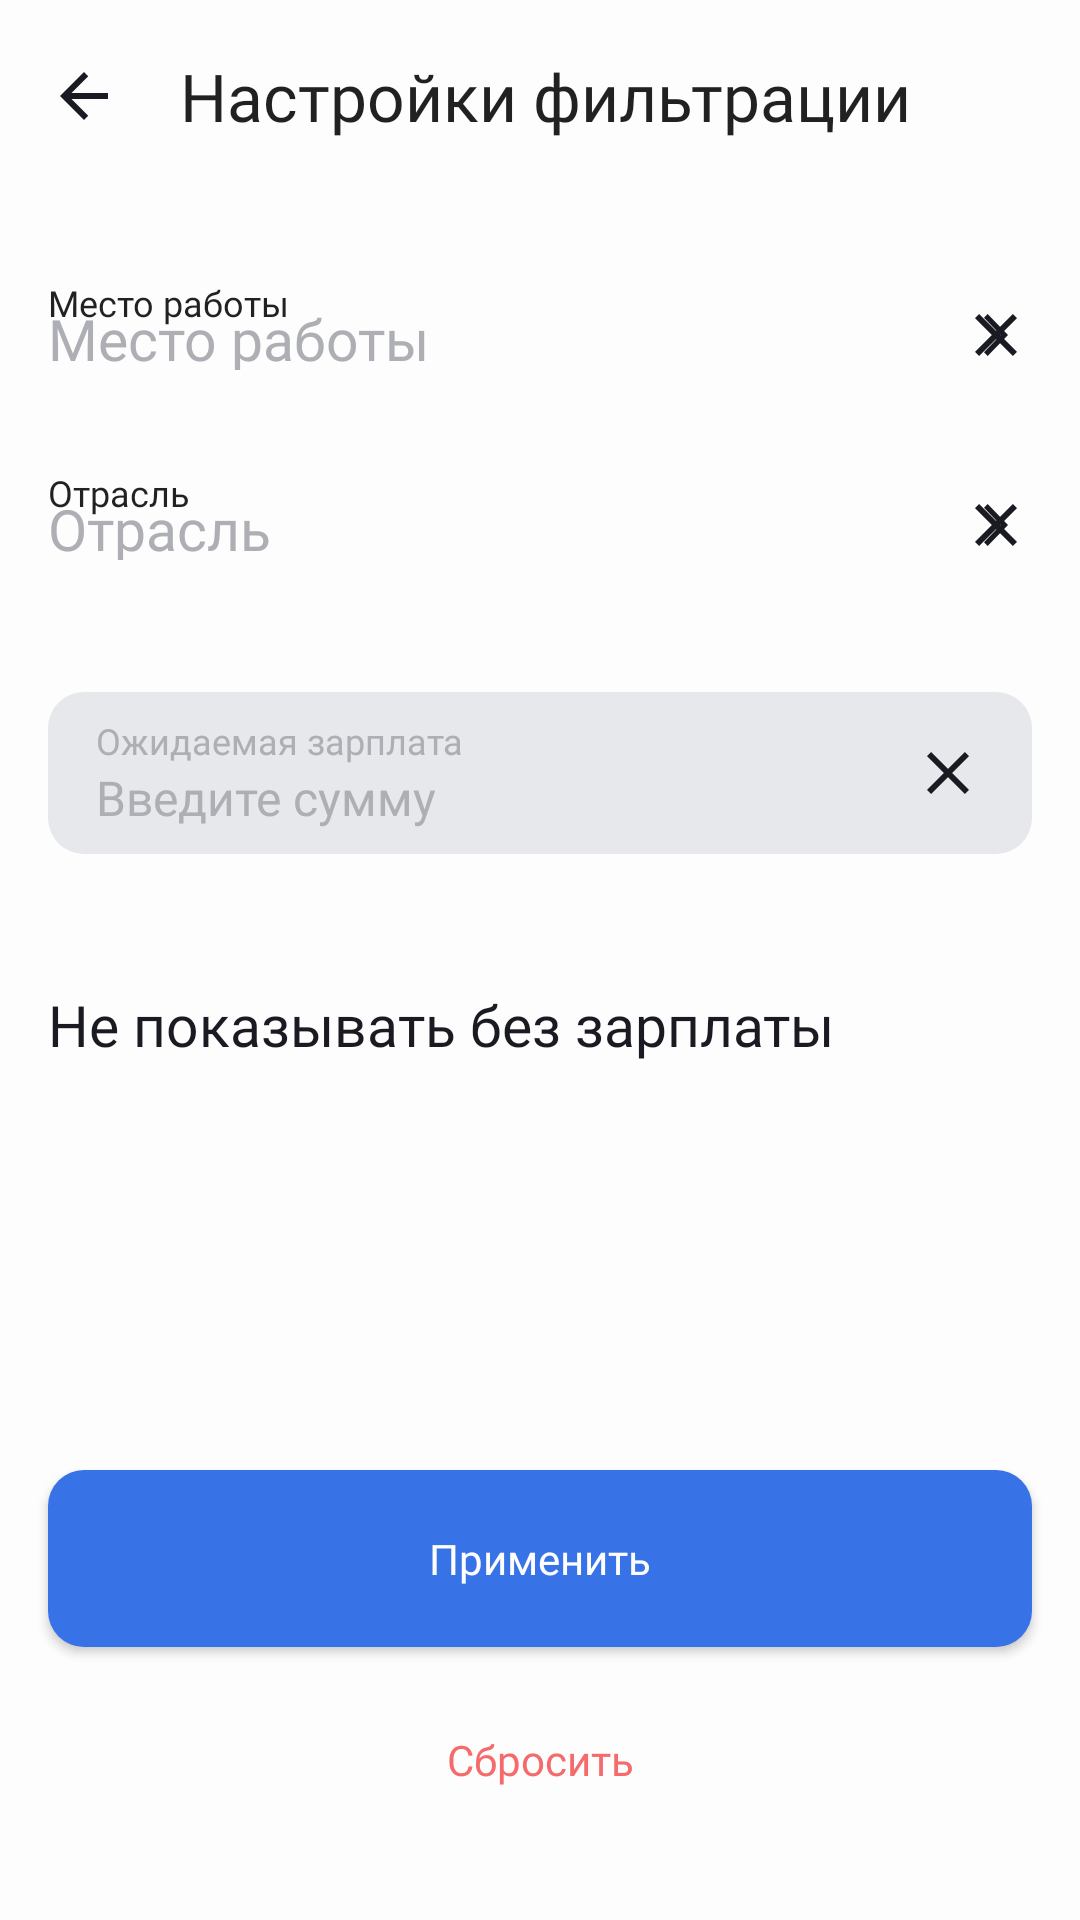

Named icons in this screenshot (1080px×1920px) and their centers, (x,y):
close: (996,335), (996,525), (948,773)
